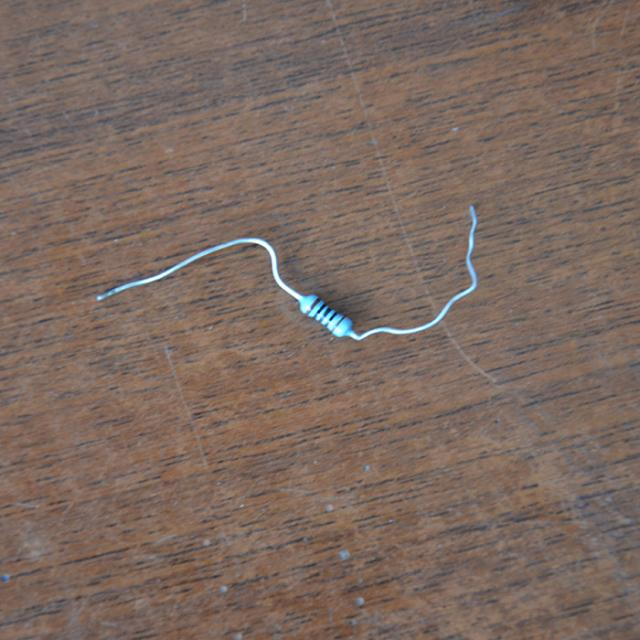Resistor Carbon-Film: (294, 289, 359, 344)
